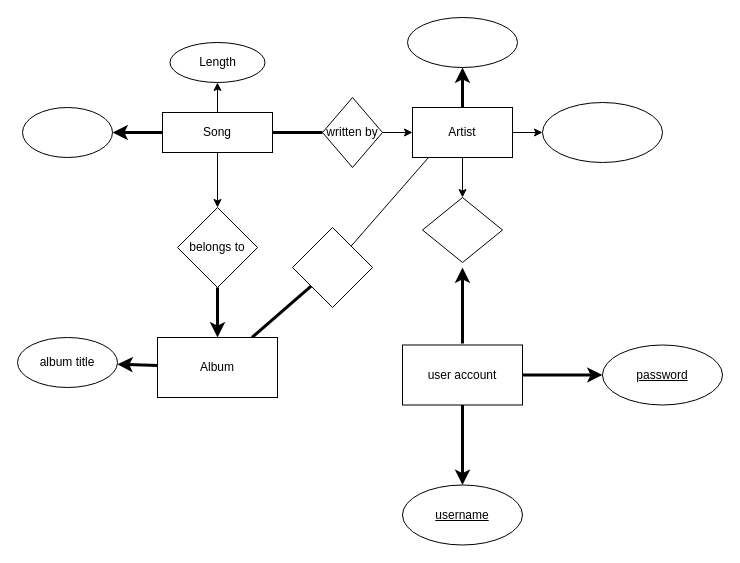
This 740x563 diagram has some shape labels left out. The box of each missing label's shape, as (x1, y1, x2, y2) in pixels:
Artist name: (406, 16, 518, 68)
belong to: (292, 226, 372, 308)
Bio: (542, 102, 662, 162)
has a: (422, 196, 502, 262)
Title: (22, 106, 112, 158)
